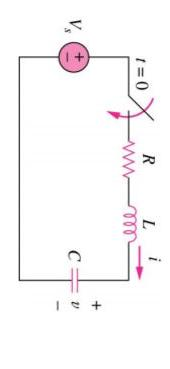inductor: (113, 193, 142, 251)
